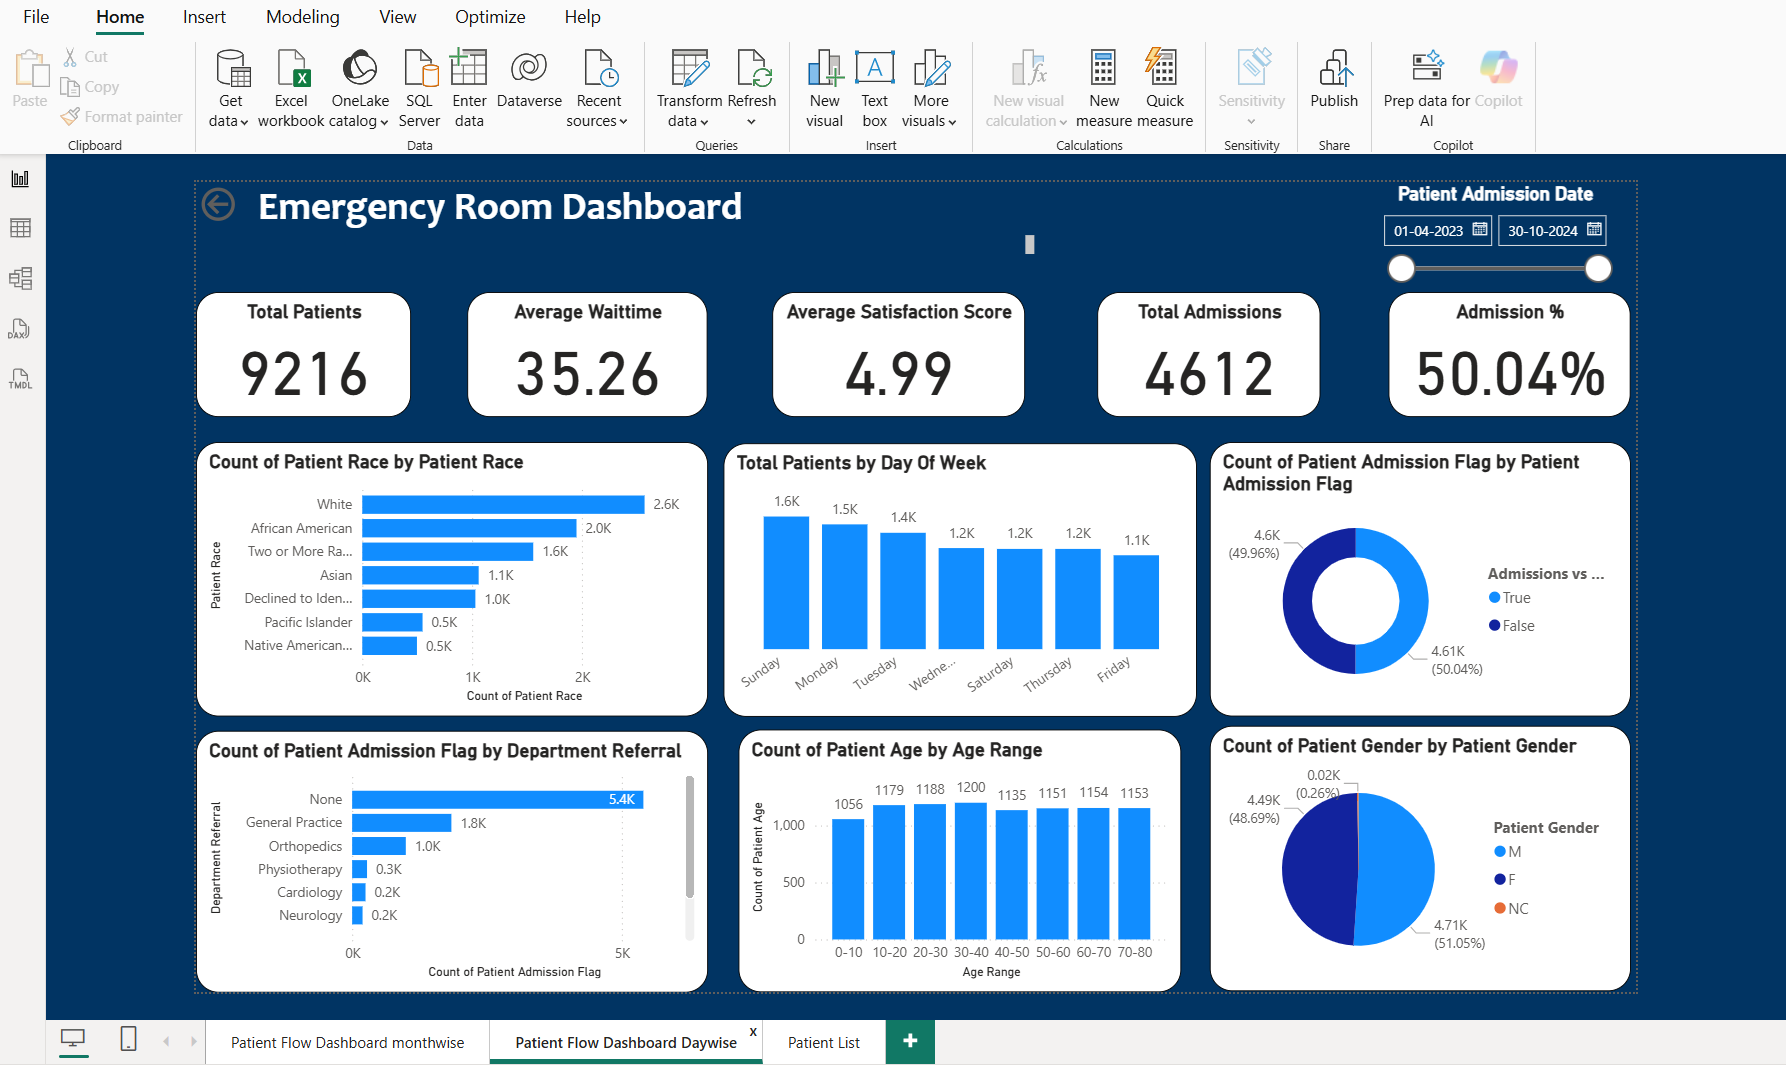

The dashboard page shown, as its layout file describes it:
{"tool":"powerbi","page":{"name":"Patient Flow Dashboard Daywise","canvas":[1280,720],"ordinal":1},"visuals":[{"type":"card","title":"Total Patients","fields":{"Values":["Hospital ER_Data.Total Patients"]},"box":[0,97.8,191.4,111.4],"z":0},{"type":"card","title":"Total Admissions","fields":{"Values":["Hospital ER_Data.Admitted Patients"]},"box":[801.2,97.5,198.8,111.2],"z":1000},{"type":"card","title":"Admission %","fields":{"Values":["Hospital ER_Data.Admitted %"]},"box":[1060,97.5,215,111.2],"z":2000},{"type":"clusteredColumnChart","fields":{"Category":["Hospital ER_Data.Age Range"],"Y":["CountNonNull(Hospital ER_Data.Patient Age)"]},"box":[482.6,486.8,393.2,233.4],"z":3000},{"type":"card","title":"Average Waittime","fields":{"Values":["Avg(Hospital ER_Data.Patient Waittime)"]},"box":[241.2,97.5,213.8,111.2],"z":4000},{"type":"card","title":"Average Satisfaction Score","fields":{"Values":["Avg(Hospital ER_Data.Patient Satisfaction Score)"]},"box":[512.5,97.5,225,111.2],"z":5000},{"type":"pieChart","fields":{"Category":["Hospital ER_Data.Patient Gender"],"Y":["CountNonNull(Hospital ER_Data.Patient Gender)"]},"box":[901.2,483.7,374.4,236],"z":6000},{"type":"clusteredBarChart","fields":{"Category":["Hospital ER_Data.Patient Race"],"Y":["CountNonNull(Hospital ER_Data.Patient Race)"]},"box":[0,231.3,455.3,243.9],"z":7000},{"type":"clusteredBarChart","fields":{"Category":["Hospital ER_Data.Department Referral"],"Y":["CountNonNull(Hospital ER_Data.Patient Admission Flag)"]},"box":[0,487.5,455,232.5],"z":8000},{"type":"donutChart","fields":{"Category":["Hospital ER_Data.Patient Admission Flag"],"Y":["CountNonNull(Hospital ER_Data.Patient Admission Flag)"]},"box":[901.2,231.4,374.4,244.2],"z":9000},{"type":"textbox","box":[50,0,10.5,116.3],"z":10000},{"type":"actionButton","box":[0,0,100,39.5],"z":11000},{"type":"clusteredColumnChart","title":"Total Patients by Day Of Week","fields":{"Y":["Hospital ER_Data.Total Patients"],"Category":["Hospital ER_Data.DayOfWeek"]},"box":[468.6,232.6,420.9,243],"z":12000},{"type":"slicer","title":"Patient Admission Date","fields":{"Values":["Hospital ER_Data.Patient Admission Date"]},"box":[1043,0,224.4,97.7],"z":13000},{"type":"textbox","title":"Emergency Room Dashboard","box":[50,0,700,68.6],"z":14000}]}

Visuals, with their boxes on the page's 1280x720 design canvas (x1, y1, x2, y2). These are canvas units, not pixel positions in the 1786x1065 screenshot, which may show the page scaled, cropped or inside an application window:
"Total Patients" card: Rect(0, 98, 191, 209)
"Total Admissions" card: Rect(801, 98, 1000, 209)
"Admission %" card: Rect(1060, 98, 1275, 209)
clusteredColumnChart - Hospital ER_Data.Age Range x CountNonNull(Hospital ER_Data.Patient Age): Rect(483, 487, 876, 720)
"Average Waittime" card: Rect(241, 98, 455, 209)
"Average Satisfaction Score" card: Rect(512, 98, 738, 209)
pieChart - Hospital ER_Data.Patient Gender x CountNonNull(Hospital ER_Data.Patient Gender): Rect(901, 484, 1276, 720)
clusteredBarChart - Hospital ER_Data.Patient Race x CountNonNull(Hospital ER_Data.Patient Race): Rect(0, 231, 455, 475)
clusteredBarChart - Hospital ER_Data.Department Referral x CountNonNull(Hospital ER_Data.Patient Admission Flag): Rect(0, 488, 455, 720)
donutChart - Hospital ER_Data.Patient Admission Flag x CountNonNull(Hospital ER_Data.Patient Admission Flag): Rect(901, 231, 1276, 476)
textbox: Rect(50, 0, 60, 116)
actionButton: Rect(0, 0, 100, 40)
"Total Patients by Day Of Week" clusteredColumnChart: Rect(469, 233, 890, 476)
"Patient Admission Date" slicer: Rect(1043, 0, 1267, 98)
"Emergency Room Dashboard" textbox: Rect(50, 0, 750, 69)
